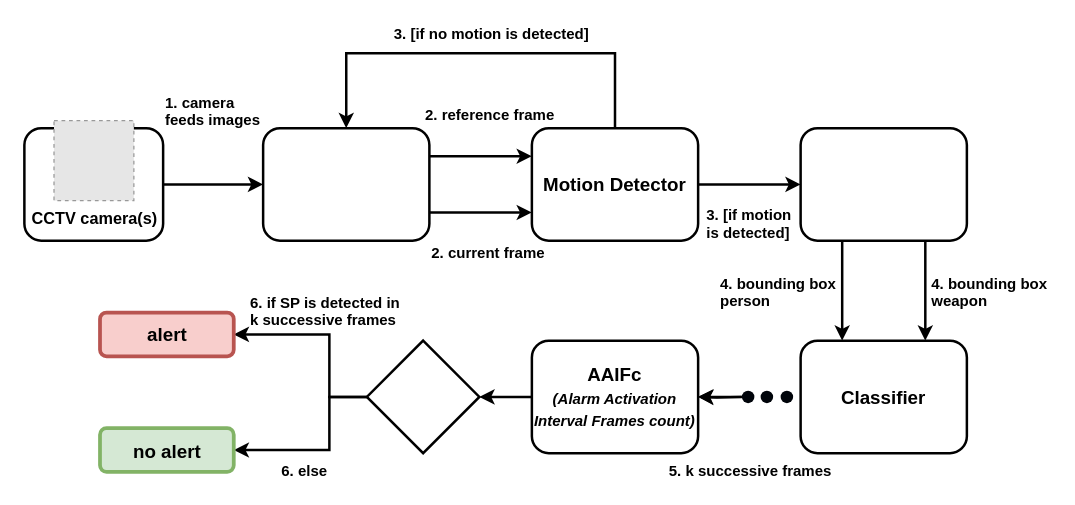
This 1075x505 diagram has some shape labels left out. Grey dashed boxes stand in for pictures. The shapes that lost their labels are listed below. From the top down, each one's box as (x1, y1, x2, y2) in pixels, then its label:
(261, 126, 430, 241): Frames Extraction
(799, 126, 968, 241): YOLOv3 detection model
(365, 339, 480, 454): decision
